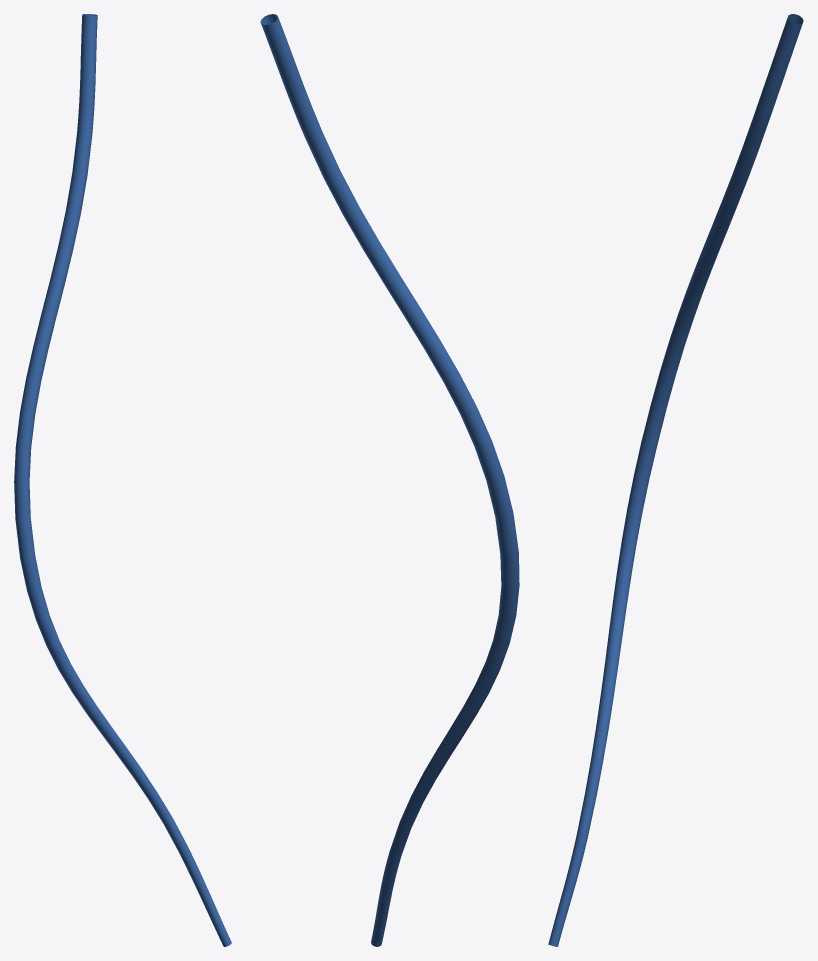
The picture shows the model from 3 angles, left to right: view 1: azimuth 30°, elevation 25°; view 2: azimuth 150°, elevation 25°; view 3: azimuth 270°, elevation 25°; orthographic projection. The views are drawn at different scales.
Visible parts, largest first — view 1: 右侧眼上静脉; view 2: 右侧眼上静脉; view 3: 右侧眼上静脉.
Boxes of the visible parts, <box> form: 右侧眼上静脉: <box>14,14,231,946</box>; 右侧眼上静脉: <box>260,14,519,946</box>; 右侧眼上静脉: <box>548,14,803,946</box>.
Bounding box in the file's own units: 0.0182 × 0.09 × 0.0227.
